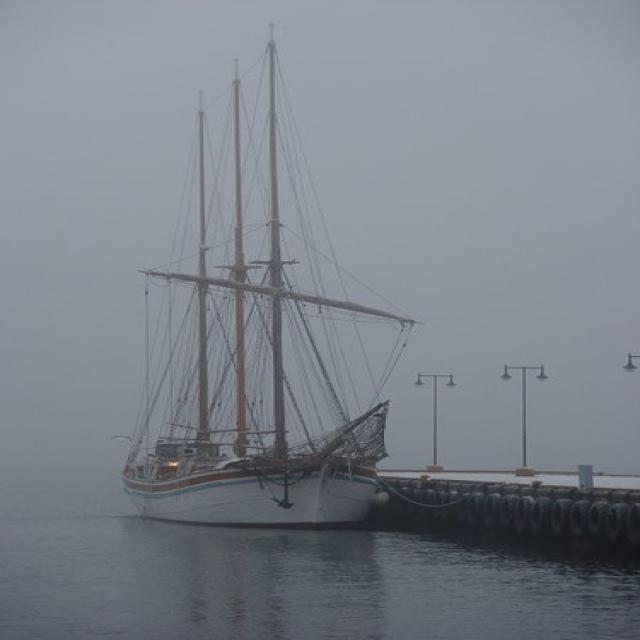boat: (105, 20, 419, 522)
